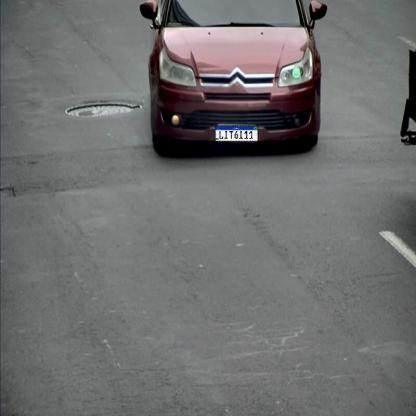PlacaM: (215, 126, 258, 142)
